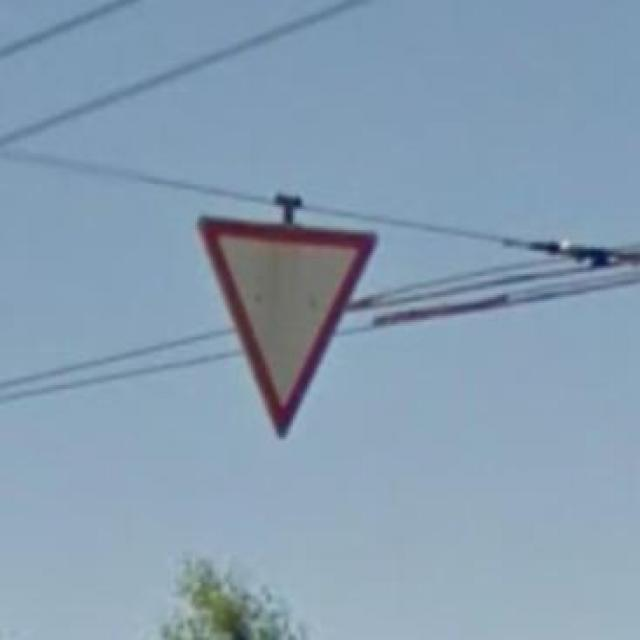Ustap pierwszenstwa: (195, 212, 377, 438)
